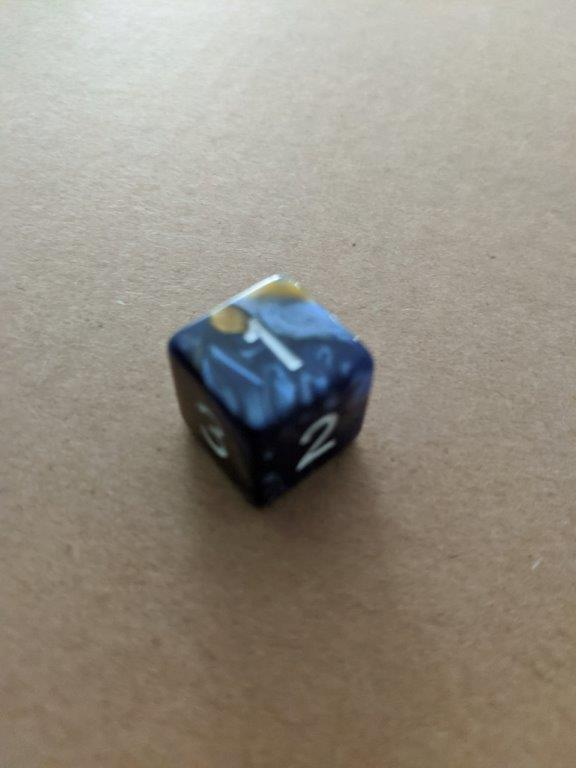d6-1: (167, 272, 375, 505)
